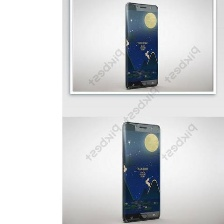phone: (118, 119, 163, 224), (121, 0, 161, 91)
